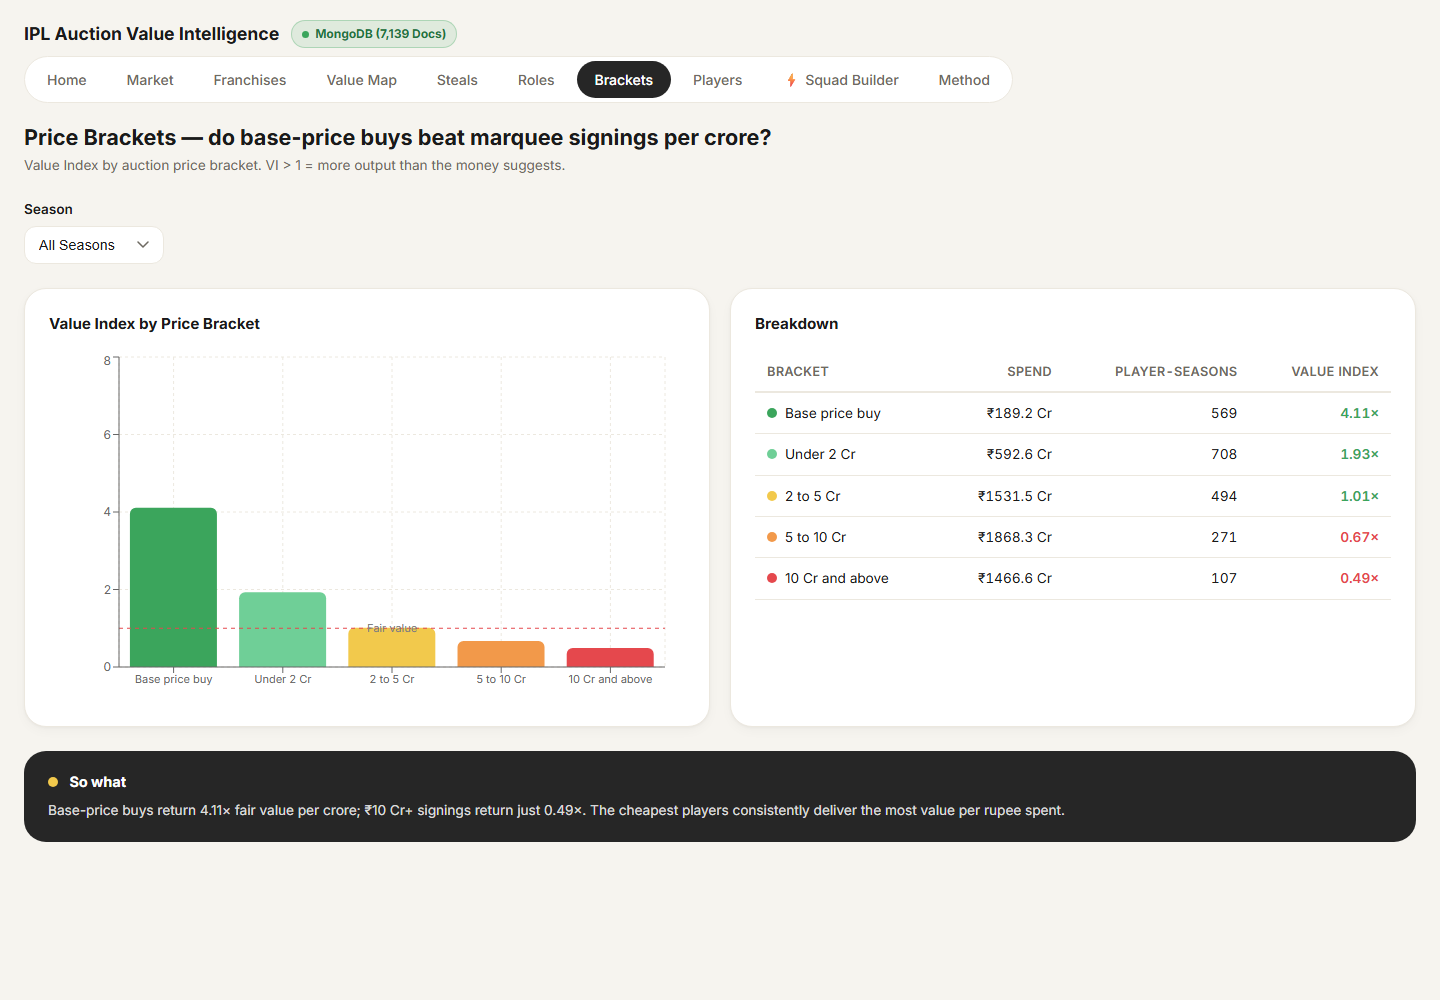

The page's visual inventory and layout, read from the dashboard file:
{"tool":"powerbi","page":{"name":"6 Price Brackets","canvas":[1280,720],"ordinal":6},"visuals":[{"type":"textbox","box":[16,8,270,66],"z":1000},{"type":"textbox","box":[300,14,748,44],"z":2000},{"type":"actionButton","title":"Home","box":[306,20,88,32],"z":3000},{"type":"actionButton","title":"Market","box":[398,20,88,32],"z":4000},{"type":"actionButton","title":"Franchises","box":[490,20,88,32],"z":5000},{"type":"actionButton","title":"Value Map","box":[582,20,88,32],"z":6000},{"type":"actionButton","title":"Steals","box":[674,20,88,32],"z":7000},{"type":"actionButton","title":"Roles","box":[766,20,88,32],"z":8000},{"type":"actionButton","title":"Brackets","box":[858,20,88,32],"z":9000},{"type":"actionButton","title":"Method","box":[950,20,88,32],"z":10000},{"type":"actionButton","title":"i","box":[1062,14,44,44],"z":11000},{"type":"textbox","box":[16,74,1248,50],"z":12000},{"type":"card","fields":{"Values":["_Measures.Base Price Value Index"]},"box":[16,126,241.6,62],"z":13000},{"type":"card","fields":{"Values":["_Measures.Marquee Value Index"]},"box":[265.6,126,241.6,62],"z":14000},{"type":"card","fields":{"Values":["_Measures.Base Price Above Median %"]},"box":[515.2,126,241.6,62],"z":15000},{"type":"card","fields":{"Values":["_Measures.Marquee Above Median %"]},"box":[764.8,126,241.6,62],"z":16000},{"type":"card","fields":{"Values":["_Measures.Base Price Buys"]},"box":[1014.4,126,241.6,62],"z":17000},{"type":"textbox","box":[16,192,196,84],"z":18000},{"type":"slicer","fields":{"Values":["DimSeason.Season"]},"box":[24,202,180,64],"z":19000},{"type":"textbox","box":[16,286,196,418],"z":20000},{"type":"clusteredColumnChart","title":"Value Index by price bracket · 1.00 = fair value","fields":{"Category":["FactPlayerSeason.PriceBracket"],"Y":["_Measures.Value Index"]},"box":[224,192,515,262],"z":21000},{"type":"hundredPercentStackedBarChart","title":"Value quadrant mix within each bracket (% of player-seasons)","fields":{"Category":["FactPlayerSeason.PriceBracket"],"Series":["FactPlayerSeason.Value Quadrant"],"Y":["_Measures.Player Seasons"]},"box":[749,192,515,262],"z":22000},{"type":"tableEx","title":"Bracket scorecard","fields":{"Values":["FactPlayerSeason.PriceBracket","_Measures.Player Seasons","_Measures.Spend Cr","_Measures.Priced Impact","_Measures.Impact per Match","_Measures.Lakh per Point","_Measures.Above Median Impact %","_Measures.Value Index"]},"box":[224,464,1040,240],"z":23000}]}

Visuals, with their boxes on the page's 1280x720 design canvas (x1, y1, x2, y2). These are canvas units, not pixel positions in the 1440x1000 screenshot, which may show the page scaled, cropped or inside an application window:
textbox: pyautogui.locateOnScreen(16, 8, 286, 74)
textbox: pyautogui.locateOnScreen(300, 14, 1048, 58)
"Home" actionButton: pyautogui.locateOnScreen(306, 20, 394, 52)
"Market" actionButton: pyautogui.locateOnScreen(398, 20, 486, 52)
"Franchises" actionButton: pyautogui.locateOnScreen(490, 20, 578, 52)
"Value Map" actionButton: pyautogui.locateOnScreen(582, 20, 670, 52)
"Steals" actionButton: pyautogui.locateOnScreen(674, 20, 762, 52)
"Roles" actionButton: pyautogui.locateOnScreen(766, 20, 854, 52)
"Brackets" actionButton: pyautogui.locateOnScreen(858, 20, 946, 52)
"Method" actionButton: pyautogui.locateOnScreen(950, 20, 1038, 52)
"i" actionButton: pyautogui.locateOnScreen(1062, 14, 1106, 58)
textbox: pyautogui.locateOnScreen(16, 74, 1264, 124)
card - _Measures.Base Price Value Index: pyautogui.locateOnScreen(16, 126, 258, 188)
card - _Measures.Marquee Value Index: pyautogui.locateOnScreen(266, 126, 507, 188)
card - _Measures.Base Price Above Median %: pyautogui.locateOnScreen(515, 126, 757, 188)
card - _Measures.Marquee Above Median %: pyautogui.locateOnScreen(765, 126, 1006, 188)
card - _Measures.Base Price Buys: pyautogui.locateOnScreen(1014, 126, 1256, 188)
textbox: pyautogui.locateOnScreen(16, 192, 212, 276)
slicer - DimSeason.Season: pyautogui.locateOnScreen(24, 202, 204, 266)
textbox: pyautogui.locateOnScreen(16, 286, 212, 704)
"Value Index by price bracket · 1.00 = fair value" clusteredColumnChart: pyautogui.locateOnScreen(224, 192, 739, 454)
"Value quadrant mix within each bracket (% of player-seasons)" hundredPercentStackedBarChart: pyautogui.locateOnScreen(749, 192, 1264, 454)
"Bracket scorecard" tableEx: pyautogui.locateOnScreen(224, 464, 1264, 704)
